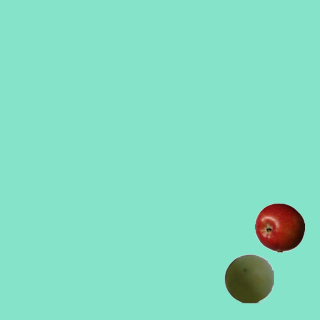Apple Braeburn: (254, 202, 304, 252)
Grape White 4: (223, 253, 273, 303)
